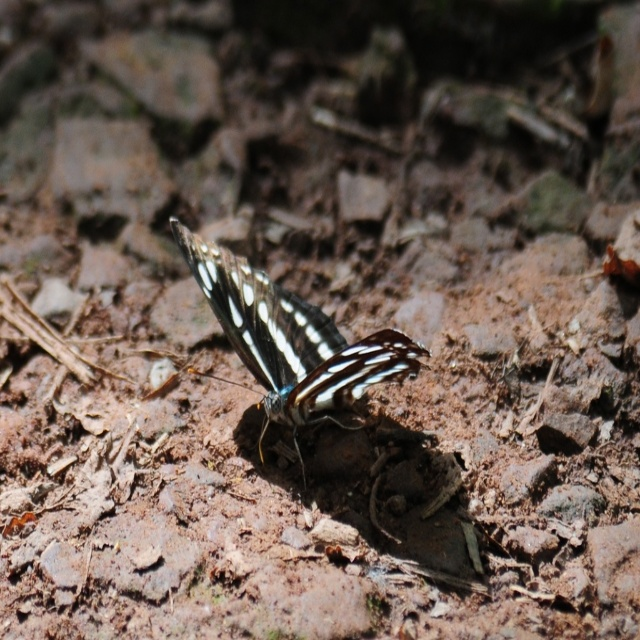Butterfly: (170, 219, 432, 492)
